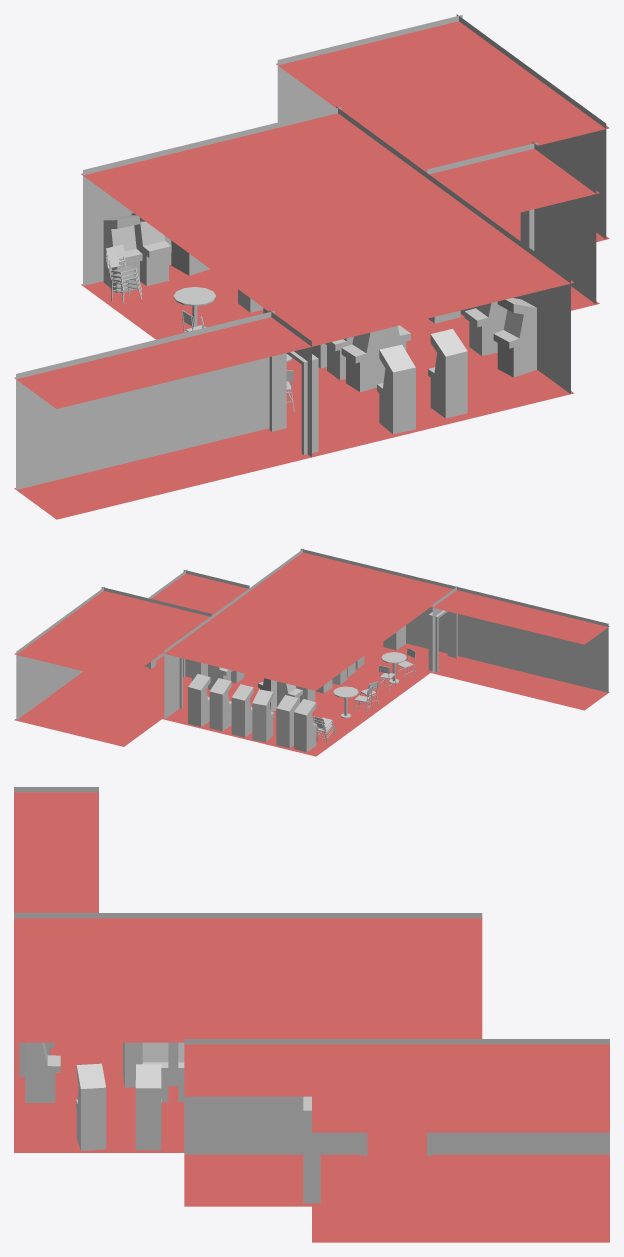
Rendered from level.glb.
3 renders of one model, top to bottom at view 1: azimuth 30°, elevation 25°; view 2: azimuth 150°, elevation 25°; view 3: azimuth 270°, elevation 25°, orthographic. The views are drawn at different scales.
Parts seen in each view (by area): view 1: ceiling, Wall Segment (×16), Floor, arcade_cabinet (×9), doorframe, wall segment door, table; view 2: ceiling, Floor, Wall Segment (×14), arcade_cabinet (×10), doorframe (×2), table (×2), wall segment door; view 3: ceiling, Floor, Wall Segment (×8), arcade_cabinet (×5), doorframe, wall segment door.
Boxes of the visible parts, x1,y1,x2,y2 form: ceiling: (14, 21, 609, 408); Wall Segment (×16): (16, 51, 606, 489); Floor: (14, 212, 609, 519); arcade_cabinet (×9): (103, 213, 536, 434); doorframe: (269, 351, 318, 454); wall segment door: (269, 310, 311, 457); table: (173, 287, 216, 326); ceiling: (14, 552, 609, 690); Floor: (14, 642, 609, 756); Wall Segment (×14): (16, 575, 608, 720); arcade_cabinet (×10): (188, 625, 405, 752); doorframe (×2): (179, 610, 457, 708); table (×2): (333, 652, 406, 718); wall segment door: (432, 586, 457, 672); ceiling: (14, 792, 609, 1132); Floor: (14, 1042, 609, 1242); Wall Segment (×8): (184, 1039, 609, 1154); arcade_cabinet (×5): (25, 1042, 168, 1150); doorframe: (303, 1096, 320, 1203); wall segment door: (354, 1039, 439, 1154).
Size of the model in its own units: 19 by 3 by 14.
